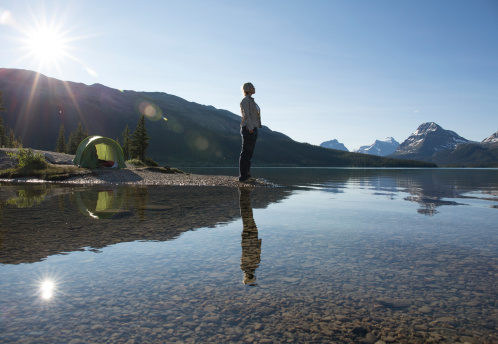em pe: (223, 75, 269, 177)
